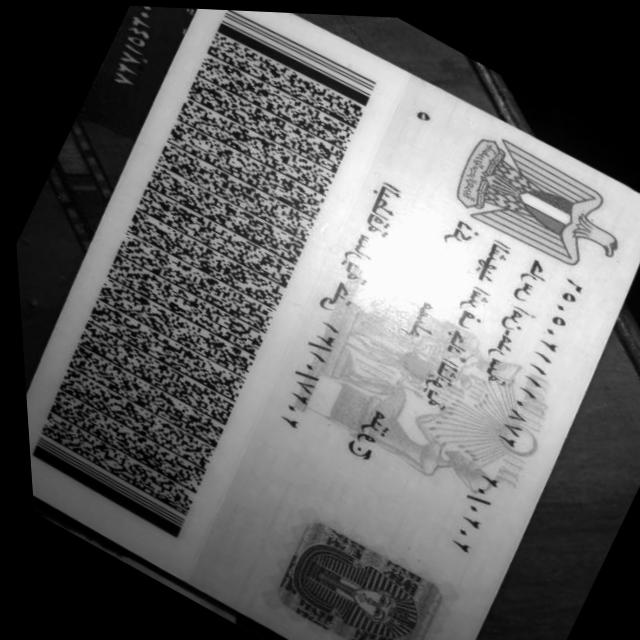id_card: (26, 9, 640, 640)
